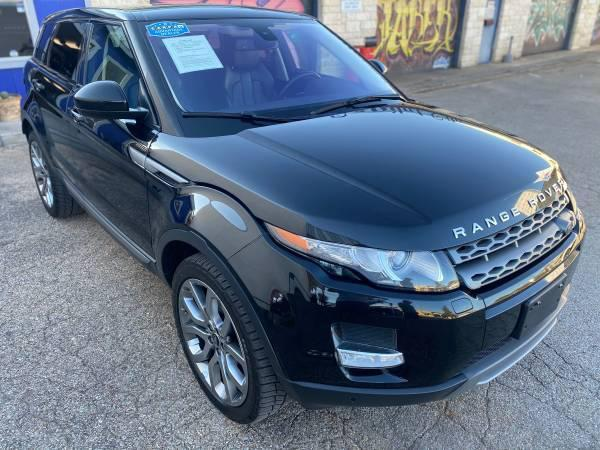Front_Bumper: (226, 216, 587, 415)
Front_Fender: (147, 130, 302, 273)
Front_Right_Door: (68, 93, 161, 265)
Front_Right_Window: (76, 22, 159, 136)
Front_Windshield: (137, 18, 407, 127)
Grille: (446, 183, 585, 295)
Hood: (167, 104, 569, 250)
Rear_Right_Door: (20, 64, 74, 192)
Rear_Right_Window: (38, 22, 87, 87)
Right_Headlight: (261, 222, 463, 295)
Roof: (25, 0, 300, 132)
Wheel: (170, 252, 278, 425), (31, 138, 63, 212)
